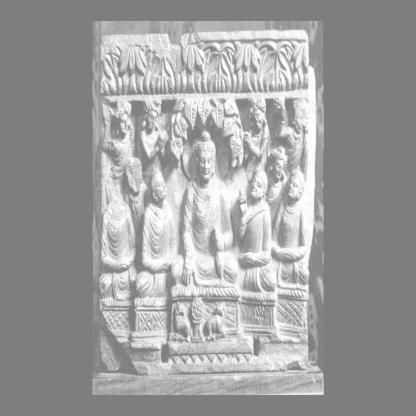buddha-sitting: (169, 131, 253, 357)
